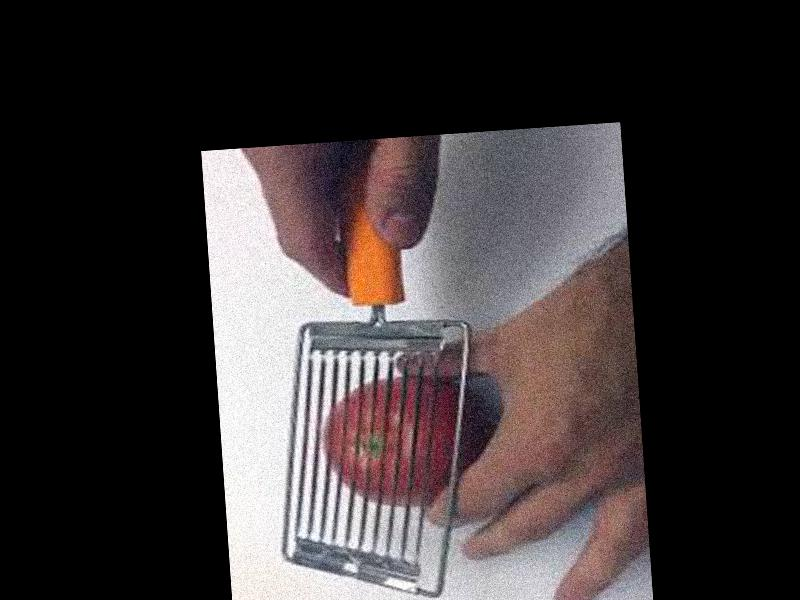Tomato: (320, 369, 488, 508)
